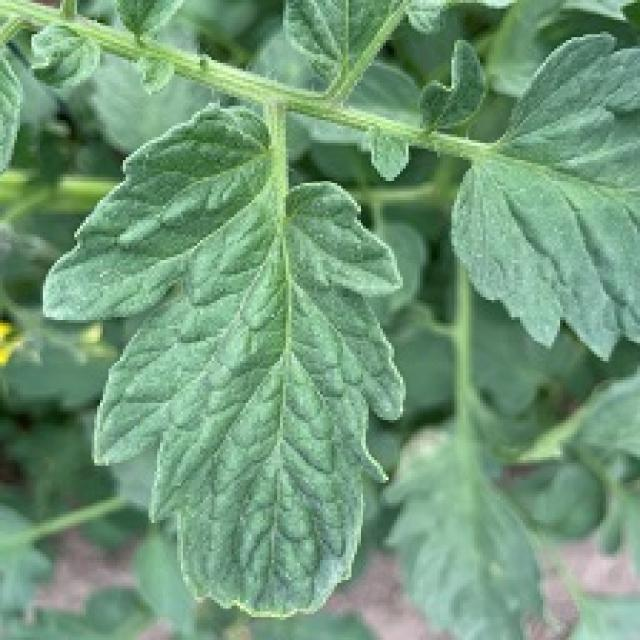Healthy: (0, 66, 533, 640), (452, 34, 639, 357)
